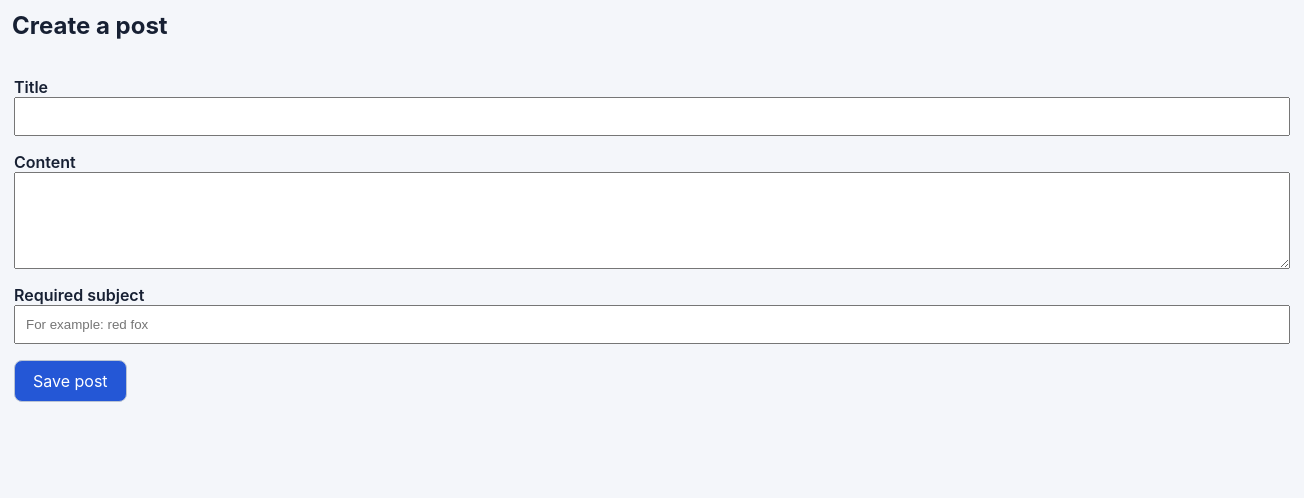
a failed save preserves entered content
In the field labelled "Title": (652, 116) [14, 97, 1290, 136], type "Urban red foxes"
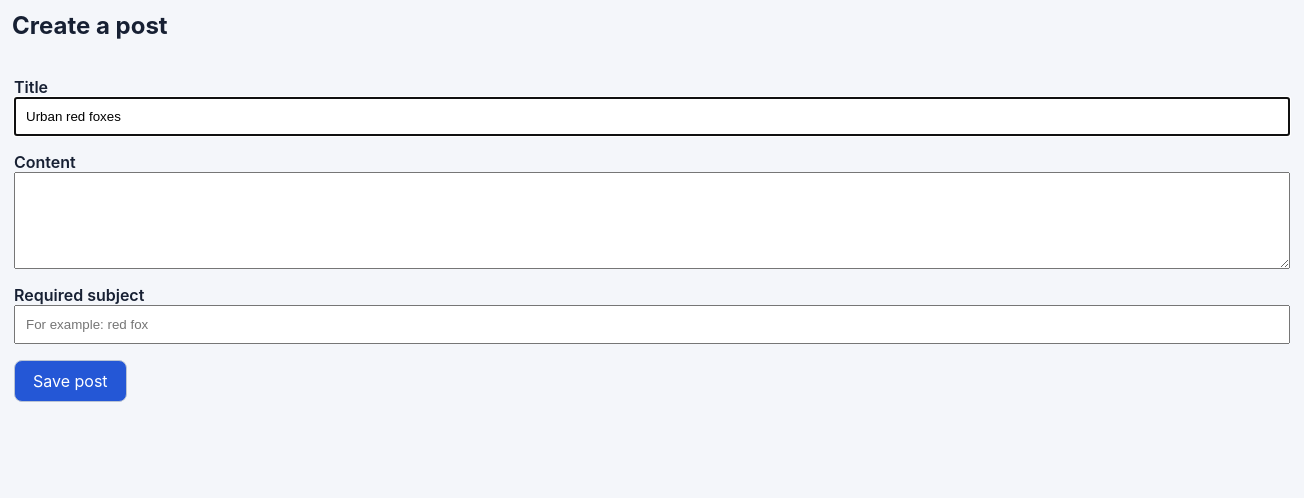
In the text box labelled "Content": (652, 220) [14, 172, 1290, 269], type "A post about red foxes."
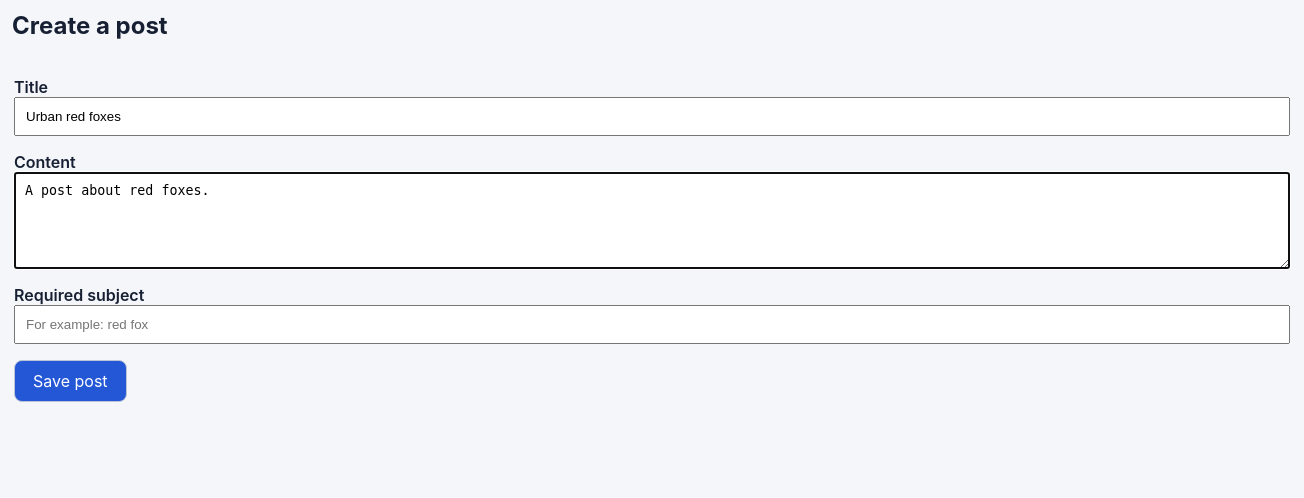
In the field labelled "Required subject": (652, 324) [14, 305, 1290, 344], type "red fox"
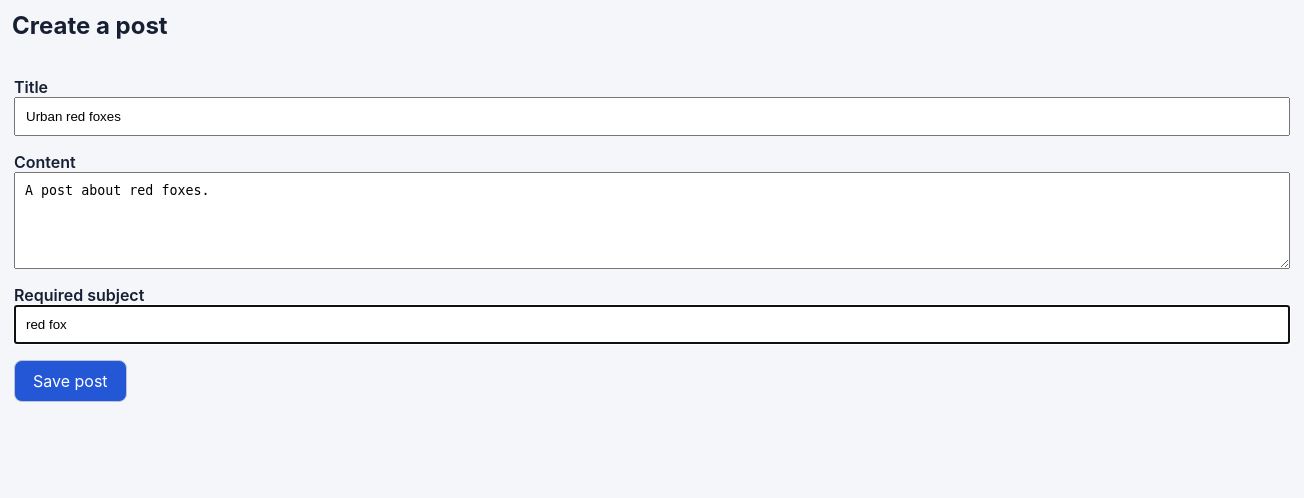
Click the button "Save post": (70, 381) [14, 360, 127, 402]
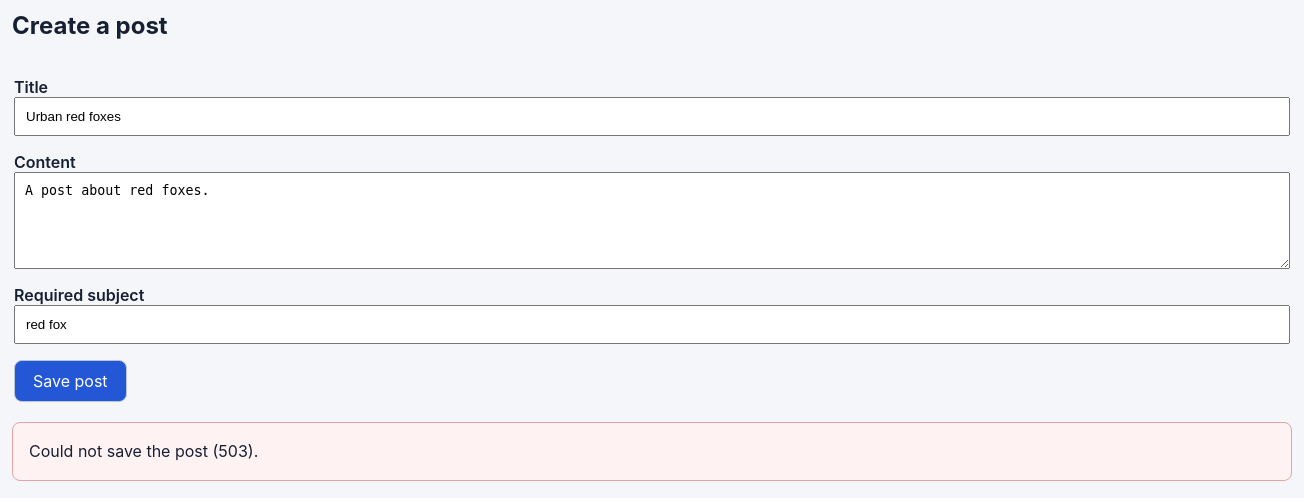
Expected: the message reads "Could not save the post (503).", [29, 441, 258, 461]
